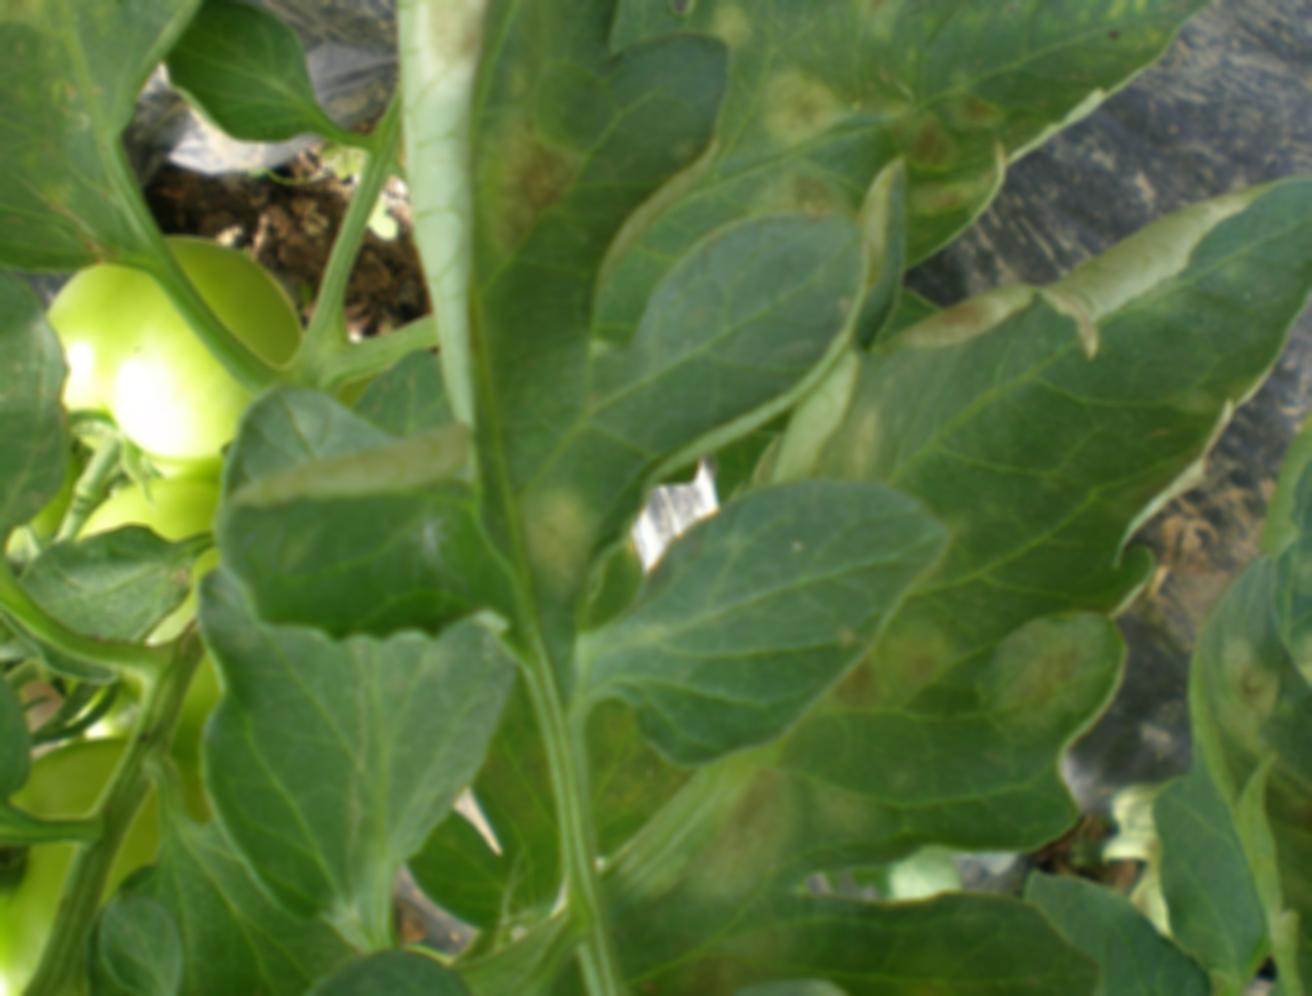Tomato mold leaf: (547, 171, 1312, 958), (624, 0, 1184, 407), (384, 0, 696, 551), (187, 592, 520, 956), (1165, 313, 1312, 996), (0, 0, 221, 293)
